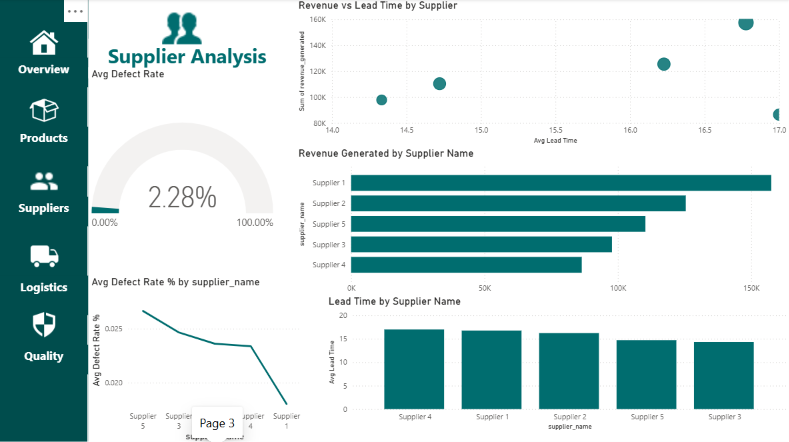

The dashboard page shown, as its layout file describes it:
{"tool":"powerbi","page":{"name":"Page 3","canvas":[1280,720],"ordinal":2},"visuals":[{"type":"shape","box":[0,0,144,720],"z":0},{"type":"textbox","box":[0,96,144,48],"z":1000},{"type":"textbox","box":[0,208,144,64],"z":2000},{"type":"textbox","box":[0,320,144,48],"z":3000},{"type":"textbox","box":[0,448,144,64],"z":4000},{"type":"textbox","box":[0,560,144,48],"z":5000},{"type":"image","box":[32,48,80,48],"z":6000},{"type":"image","box":[48,128,48,96],"z":7000},{"type":"image","box":[48,240,48,112],"z":8000},{"type":"image","box":[48,384,48,64],"z":9000},{"type":"image","box":[48,496,48,64],"z":10000},{"type":"textbox","box":[144,64,336,64],"z":11000},{"type":"image","box":[640,176,192,144],"z":12000},{"type":"image","box":[240,16,112,64],"z":13000},{"type":"barChart","title":"Revenue Generated by Supplier Name","fields":{"Category":["public supply_chain.supplier_name"],"Y":["Sum(public supply_chain.revenue_generated)"]},"box":[480,240,800,256],"z":14000},{"type":"clusteredColumnChart","title":"Lead Time by Supplier Name","fields":{"Category":["public supply_chain.supplier_name"],"Y":["public supply_chain.Avg Lead Time"]},"box":[528,480,752,224],"z":15000},{"type":"scatterChart","title":"Revenue vs Lead Time by Supplier ","fields":{"X":["public supply_chain.Avg Lead Time"],"Y":["Sum(public supply_chain.revenue_generated)"],"Size":["Sum(public supply_chain.order_quantities)"],"Category":["public supply_chain.supplier_name"]},"box":[480,0,800,240],"z":16000},{"type":"lineChart","fields":{"Category":["public supply_chain.supplier_name"],"Y":["public supply_chain.Avg Defect Rate %"]},"box":[144,448,352,272],"z":17000},{"type":"gauge","fields":{"Y":["public supply_chain.Avg Defect Rate %"]},"box":[144,112,304,336],"z":18000}]}

Visuals, with their boxes on the page's 1280x720 design canvas (x1, y1, x2, y2). These are canvas units, not pixel positions in the 789x442 screenshot, which may show the page scaled, cropped or inside an application window:
shape: (0,0,144,720)
textbox: (0,96,144,144)
textbox: (0,208,144,272)
textbox: (0,320,144,368)
textbox: (0,448,144,512)
textbox: (0,560,144,608)
image: (32,48,112,96)
image: (48,128,96,224)
image: (48,240,96,352)
image: (48,384,96,448)
image: (48,496,96,560)
textbox: (144,64,480,128)
image: (640,176,832,320)
image: (240,16,352,80)
"Revenue Generated by Supplier Name" barChart: (480,240,1280,496)
"Lead Time by Supplier Name" clusteredColumnChart: (528,480,1280,704)
"Revenue vs Lead Time by Supplier " scatterChart: (480,0,1280,240)
lineChart - public supply_chain.supplier_name x public supply_chain.Avg Defect Rate %: (144,448,496,720)
gauge - public supply_chain.Avg Defect Rate %: (144,112,448,448)
